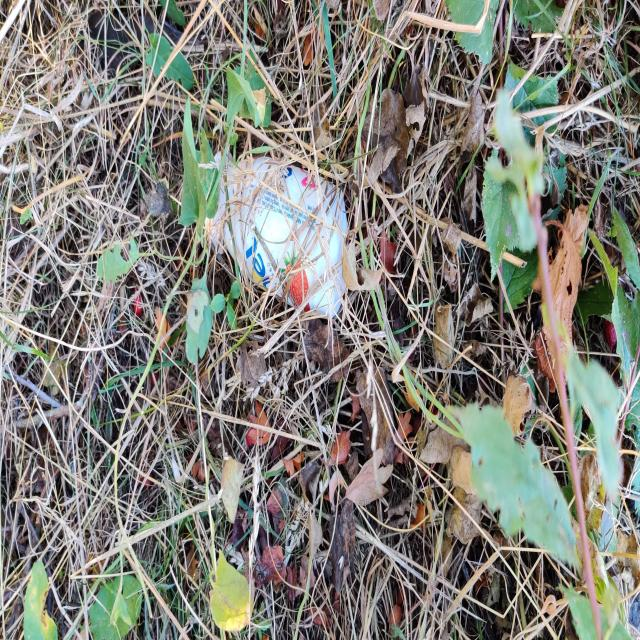litter: (203, 149, 350, 324)
